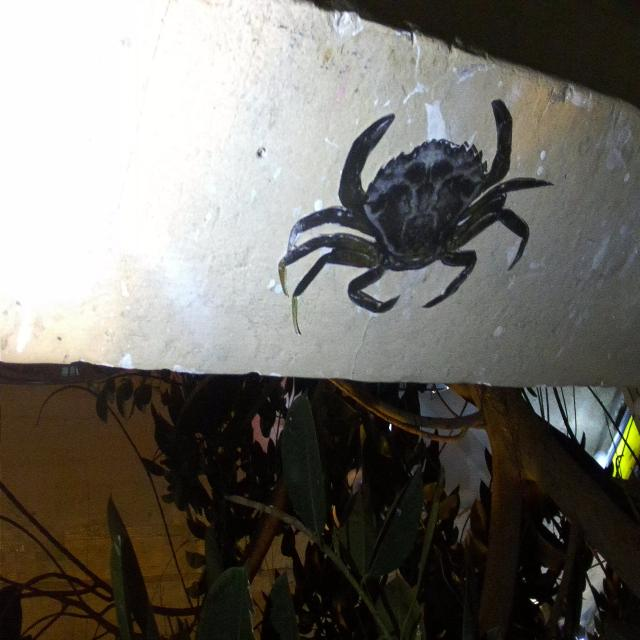European_Green_Crab: (272, 88, 551, 335)
